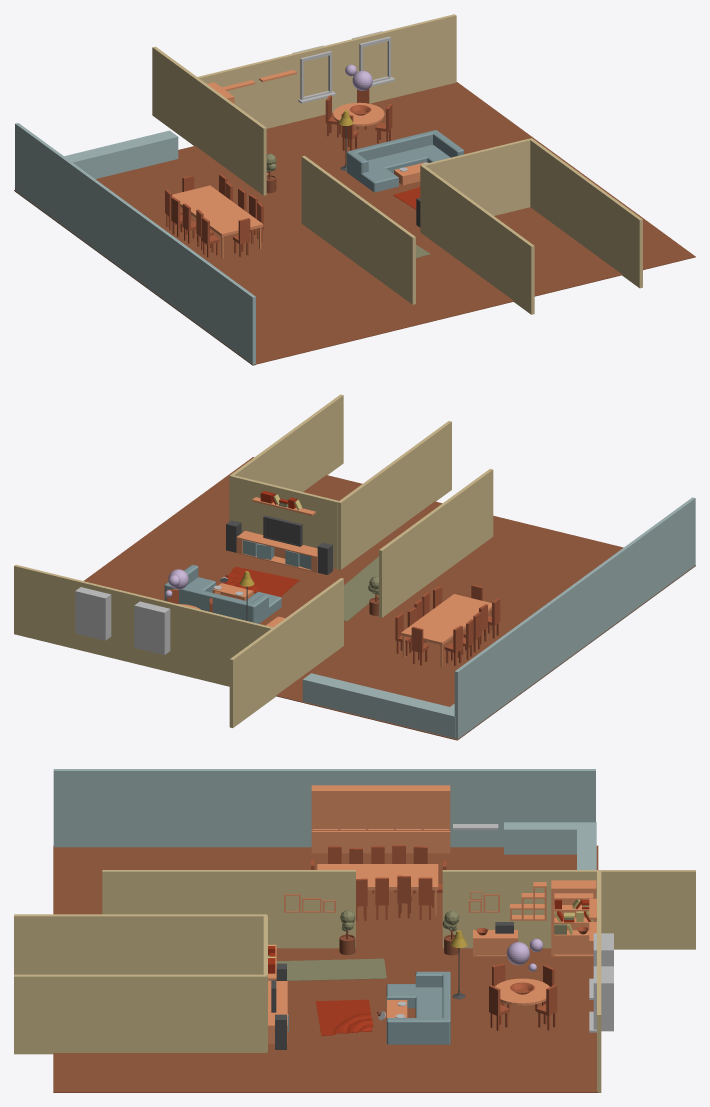
The model's file is Illustration.fbx.
3 renders of one model, top to bottom at view 1: azimuth 30°, elevation 25°; view 2: azimuth 150°, elevation 25°; view 3: azimuth 270°, elevation 25°, orthographic. The views are drawn at different scales.
Parts seen in each view (by area): view 1: Cube, Cube.033, Cube.084, Cube.014, Cube.074, Cube.003, Cube.073, Cube.009, Cube.001, Cube.002, Cylinder.005, Cube.091; view 2: Cube, Cube.033, Cube.084, Cube.014, Cube.003, Cube.074, Cube.073, Cube.009, Cube.001, Cube.002, Cube.091, Cube.092 (+4 smaller); view 3: Cube, Cube.033, Cube.073, Cube.074, Cube.014, Cube.003, Cube.031, Cube.001, Plane.001, Plane, Cube.002, Cube.047 (+13 smaller).
Part boxes in pixels (left/top/right/bottom): Cube: left=14, top=82, right=695, bottom=365; Cube.033: left=15, top=123, right=255, bottom=365; Cube.084: left=198, top=14, right=456, bottom=128; Cube.014: left=152, top=46, right=266, bottom=195; Cube.074: left=420, top=164, right=534, bottom=314; Cube.003: left=301, top=155, right=415, bottom=304; Cube.073: left=529, top=138, right=642, bottom=288; Cube.009: left=423, top=139, right=530, bottom=215; Cube.001: left=347, top=130, right=463, bottom=192; Cube.002: left=172, top=185, right=263, bottom=236; Cylinder.005: left=333, top=102, right=384, bottom=126; Cube.091: left=292, top=45, right=331, bottom=99; Cube: left=84, top=457, right=695, bottom=740; Cube.033: left=302, top=497, right=695, bottom=739; Cube.084: left=14, top=564, right=272, bottom=686; Cube.014: left=229, top=578, right=343, bottom=727; Cube.003: left=379, top=469, right=493, bottom=617; Cube.074: left=338, top=421, right=451, bottom=569; Cube.073: left=229, top=394, right=343, bottom=521; Cube.009: left=232, top=475, right=338, bottom=569; Cube.001: left=164, top=565, right=281, bottom=623; Cube.002: left=401, top=594, right=491, bottom=645; Cube.091: left=134, top=601, right=170, bottom=654; Cube.092: left=75, top=587, right=111, bottom=640; Cube: left=53, top=845, right=598, bottom=1092; Cube.033: left=53, top=769, right=596, bottom=869; Cube.073: left=14, top=974, right=267, bottom=1054; Cube.074: left=14, top=914, right=267, bottom=974; Cube.014: left=442, top=870, right=695, bottom=949; Cube.003: left=102, top=870, right=355, bottom=948; Cube.031: left=311, top=785, right=450, bottom=853; Cube.001: left=386, top=971, right=450, bottom=1044; Plane.001: left=268, top=958, right=386, bottom=980; Plane: left=315, top=999, right=372, bottom=1035; Cube.002: left=317, top=864, right=438, bottom=890; Cube.047: left=551, top=880, right=596, bottom=956.
Size of the model in its own units: 125 by 19.25 by 146.
